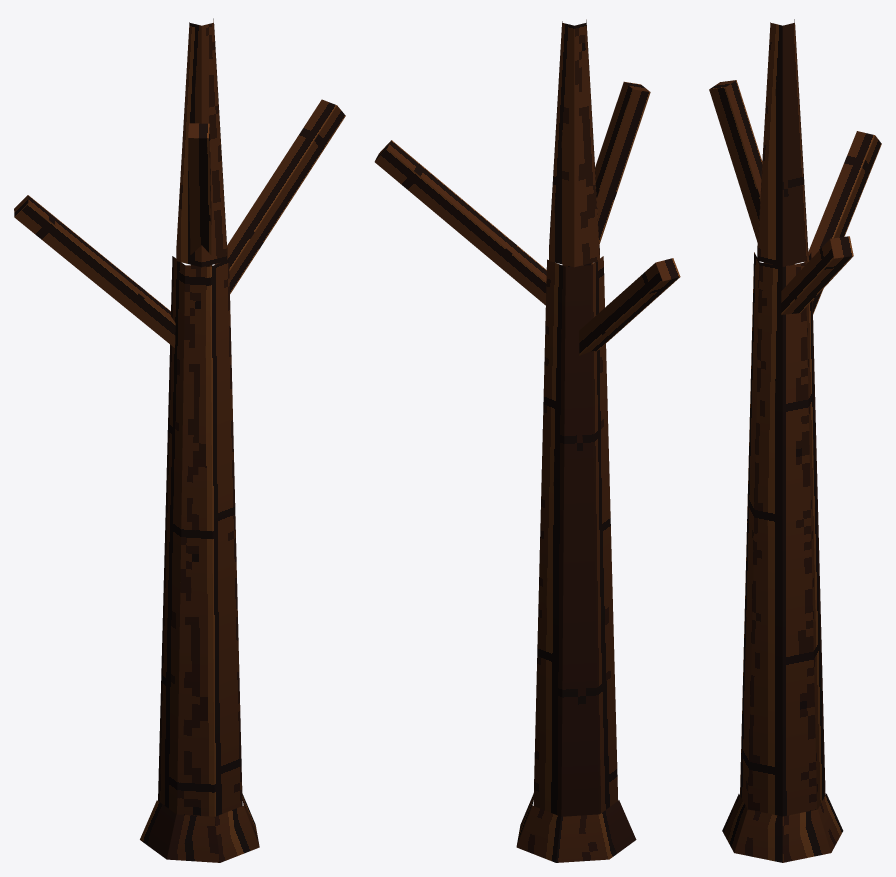
The model's file is oak_1_trunk.glb.
3 views of the same model, side by side, from view 1: azimuth 30°, elevation 25°; view 2: azimuth 150°, elevation 25°; view 3: azimuth 270°, elevation 25° (orthographic).
Parts seen in each view (by area): view 1: oak_1_trunk; view 2: oak_1_trunk; view 3: oak_1_trunk.
Boxes of the visible parts, x1,y1,x2,y2 form: oak_1_trunk: [14, 18, 345, 862]; oak_1_trunk: [374, 19, 680, 862]; oak_1_trunk: [709, 19, 881, 862].
Size of the model in its own units: 2.11 by 5.22 by 1.
Materials: 1 (1 with a texture image).
